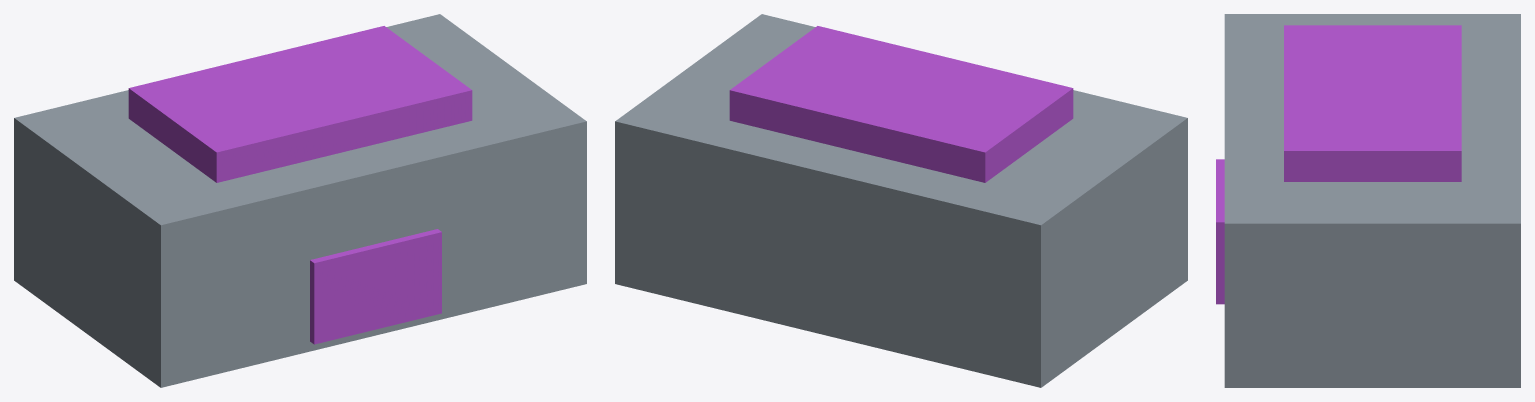
The model's file is SM_Chronolegion_CH_ProbabilistHarvester_Blockout.fbx.
3 renders of one model, left to right at view 1: azimuth 30°, elevation 25°; view 2: azimuth 150°, elevation 25°; view 3: azimuth 270°, elevation 25°, orthographic.
Parts seen in each view (by area): view 1: MainBuilding, RoofStructure, EntranceGate; view 2: MainBuilding, RoofStructure; view 3: MainBuilding, RoofStructure, EntranceGate.
Boxes of the visible parts, x1,y1,x2,y2 form: MainBuilding: [14, 14, 586, 387]; RoofStructure: [128, 26, 472, 182]; EntranceGate: [310, 229, 441, 344]; MainBuilding: [615, 14, 1187, 387]; RoofStructure: [729, 26, 1073, 182]; MainBuilding: [1224, 14, 1520, 387]; RoofStructure: [1284, 25, 1461, 181]; EntranceGate: [1216, 159, 1224, 304].
Size of the model in its own units: 570 by 247 by 350.
